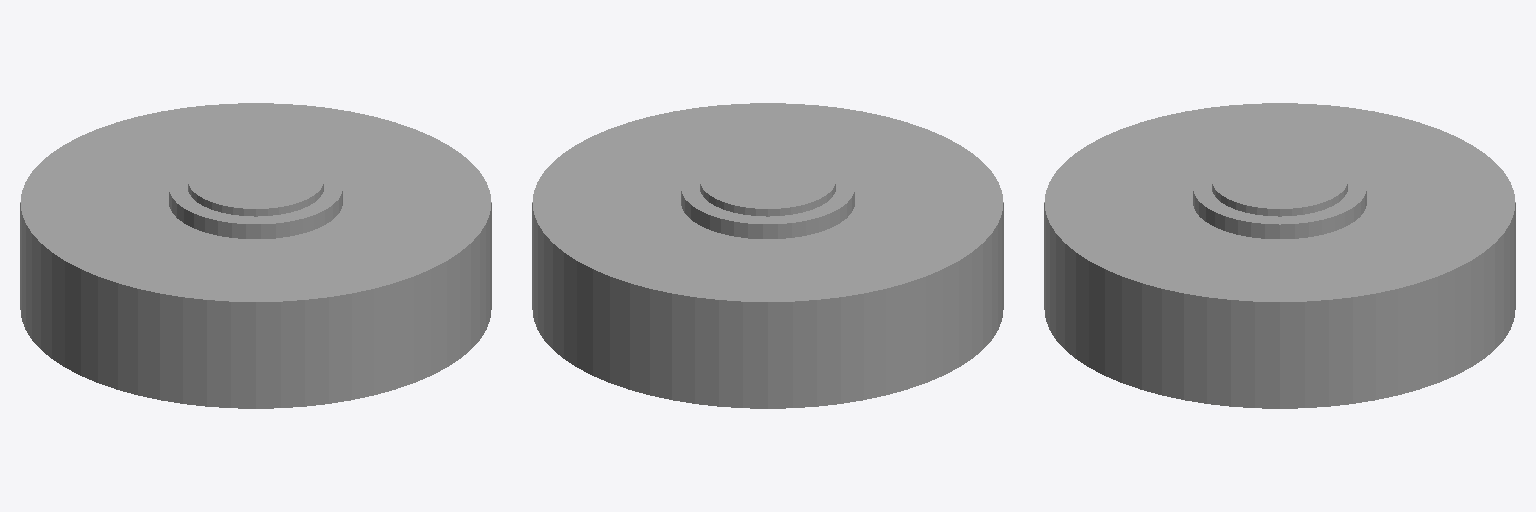
The robot description file, URDF, robot "ur5":
<?xml version="1.0" ?>
<!-- =================================================================================== -->
<!-- |    This document was autogenerated by xacro from ur5_joint_limited_robot.urdf.xacro | -->
<!-- |    EDITING THIS FILE BY HAND IS NOT RECOMMENDED                                 | -->
<!-- =================================================================================== -->
<robot name="ur5" xmlns:xacro="http://www.ros.org/wiki/xacro">
  <gazebo>
    <plugin filename="libgazebo_ros_control.so" name="ros_control">
      <!--robotNamespace>/</robotNamespace-->
      <!--robotSimType>gazebo_ros_control/DefaultRobotHWSim</robotSimType-->
    </plugin>
    <!--
    <plugin name="gazebo_ros_power_monitor_controller" filename="libgazebo_ros_power_monitor.so">
      <alwaysOn>true</alwaysOn>
      <updateRate>1.0</updateRate>
      <timeout>5</timeout>
      <powerStateTopic>power_state</powerStateTopic>
      <powerStateRate>10.0</powerStateRate>
      <fullChargeCapacity>87.78</fullChargeCapacity>     
      <dischargeRate>-474</dischargeRate>
      <chargeRate>525</chargeRate>
      <dischargeVoltage>15.52</dischargeVoltage>
      <chargeVoltage>16.41</chargeVoltage>
    </plugin>
-->
  </gazebo>
  <!-- measured from model -->
  <!--property name="shoulder_height" value="0.089159" /-->
  <!--property name="shoulder_offset" value="0.13585" /-->
  <!-- shoulder_offset - elbow_offset + wrist_1_length = 0.10915 -->
  <!--property name="upper_arm_length" value="0.42500" /-->
  <!--property name="elbow_offset" value="0.1197" /-->
  <!-- CAD measured -->
  <!--property name="forearm_length" value="0.39225" /-->
  <!--property name="wrist_1_length" value="0.093" /-->
  <!-- CAD measured -->
  <!--property name="wrist_2_length" value="0.09465" /-->
  <!-- In CAD this distance is 0.930, but in the spec it is 0.09465 -->
  <!--property name="wrist_3_length" value="0.0823" /-->
  <!-- manually measured -->
  <link name="base_link">
    <visual>
      <geometry>
        <mesh filename="package://robot_description/meshes/ur5/visual/base.dae"/>
      </geometry>
      <material name="LightGrey">
        <color rgba="0.7 0.7 0.7 1.0"/>
      </material>
    </visual>
    <collision>
      <geometry>
        <mesh filename="package://robot_description/meshes/ur5/collision/base.stl"/>
      </geometry>
    </collision>
    <inertial>
      <mass value="4.0"/>
      <origin rpy="0 0 0" xyz="0.0 0.0 0.0"/>
      <inertia ixx="0.00443333156" ixy="0.0" ixz="0.0" iyy="0.00443333156" iyz="0.0" izz="0.0072"/>
    </inertial>
  </link>
  <joint name="shoulder_pan_joint" type="revolute">
    <parent link="base_link"/>
    <child link="shoulder_link"/>
    <origin rpy="0.0 0.0 0.0" xyz="0.0 0.0 0.089159"/>
    <axis xyz="0 0 1"/>
    <limit effort="150.0" lower="-3.14159265359" upper="3.14159265359" velocity="3.15"/>
    <dynamics damping="0.0" friction="0.0"/>
  </joint>
  <link name="shoulder_link">
    <visual>
      <geometry>
        <mesh filename="package://robot_description/meshes/ur5/visual/shoulder.dae"/>
      </geometry>
      <material name="LightGrey">
        <color rgba="0.7 0.7 0.7 1.0"/>
      </material>
    </visual>
    <collision>
      <geometry>
        <mesh filename="package://robot_description/meshes/ur5/collision/shoulder.stl"/>
      </geometry>
    </collision>
    <inertial>
      <mass value="3.7"/>
      <origin rpy="0 0 0" xyz="0.0 0.0 0.0"/>
      <inertia ixx="0.010267495893" ixy="0.0" ixz="0.0" iyy="0.010267495893" iyz="0.0" izz="0.00666"/>
    </inertial>
  </link>
  <joint name="shoulder_lift_joint" type="revolute">
    <parent link="shoulder_link"/>
    <child link="upper_arm_link"/>
    <origin rpy="0.0 1.57079632679 0.0" xyz="0.0 0.13585 0.0"/>
    <axis xyz="0 1 0"/>
    <limit effort="150.0" lower="-3.14159265359" upper="3.14159265359" velocity="3.15"/>
    <dynamics damping="0.0" friction="0.0"/>
  </joint>
  <link name="upper_arm_link">
    <visual>
      <geometry>
        <mesh filename="package://robot_description/meshes/ur5/visual/upperarm.dae"/>
      </geometry>
      <material name="LightGrey">
        <color rgba="0.7 0.7 0.7 1.0"/>
      </material>
    </visual>
    <collision>
      <geometry>
        <mesh filename="package://robot_description/meshes/ur5/collision/upperarm.stl"/>
      </geometry>
    </collision>
    <inertial>
      <mass value="8.393"/>
      <origin rpy="0 0 0" xyz="0.0 0.0 0.28"/>
      <inertia ixx="0.22689067591" ixy="0.0" ixz="0.0" iyy="0.22689067591" iyz="0.0" izz="0.0151074"/>
    </inertial>
  </link>
  <joint name="elbow_joint" type="revolute">
    <parent link="upper_arm_link"/>
    <child link="forearm_link"/>
    <origin rpy="0.0 0.0 0.0" xyz="0.0 -0.1197 0.425"/>
    <axis xyz="0 1 0"/>
    <limit effort="150.0" lower="-3.14159265359" upper="3.14159265359" velocity="3.15"/>
    <dynamics damping="0.0" friction="0.0"/>
  </joint>
  <link name="forearm_link">
    <visual>
      <geometry>
        <mesh filename="package://robot_description/meshes/ur5/visual/forearm.dae"/>
      </geometry>
      <material name="LightGrey">
        <color rgba="0.7 0.7 0.7 1.0"/>
      </material>
    </visual>
    <collision>
      <geometry>
        <mesh filename="package://robot_description/meshes/ur5/collision/forearm.stl"/>
      </geometry>
    </collision>
    <inertial>
      <mass value="2.275"/>
      <origin rpy="0 0 0" xyz="0.0 0.0 0.25"/>
      <inertia ixx="0.049443313556" ixy="0.0" ixz="0.0" iyy="0.049443313556" iyz="0.0" izz="0.004095"/>
    </inertial>
  </link>
  <joint name="wrist_1_joint" type="revolute">
    <parent link="forearm_link"/>
    <child link="wrist_1_link"/>
    <origin rpy="0.0 1.57079632679 0.0" xyz="0.0 0.0 0.39225"/>
    <axis xyz="0 1 0"/>
    <limit effort="28.0" lower="-3.14159265359" upper="3.14159265359" velocity="3.2"/>
    <dynamics damping="0.0" friction="0.0"/>
  </joint>
  <link name="wrist_1_link">
    <visual>
      <geometry>
        <mesh filename="package://robot_description/meshes/ur5/visual/wrist1.dae"/>
      </geometry>
      <material name="LightGrey">
        <color rgba="0.7 0.7 0.7 1.0"/>
      </material>
    </visual>
    <collision>
      <geometry>
        <mesh filename="package://robot_description/meshes/ur5/collision/wrist1.stl"/>
      </geometry>
    </collision>
    <inertial>
      <mass value="1.219"/>
      <origin rpy="0 0 0" xyz="0.0 0.0 0.0"/>
      <inertia ixx="0.111172755531" ixy="0.0" ixz="0.0" iyy="0.111172755531" iyz="0.0" izz="0.21942"/>
    </inertial>
  </link>
  <joint name="wrist_2_joint" type="revolute">
    <parent link="wrist_1_link"/>
    <child link="wrist_2_link"/>
    <origin rpy="0.0 0.0 0.0" xyz="0.0 0.093 0.0"/>
    <axis xyz="0 0 1"/>
    <limit effort="28.0" lower="-3.14159265359" upper="3.14159265359" velocity="3.2"/>
    <dynamics damping="0.0" friction="0.0"/>
  </joint>
  <link name="wrist_2_link">
    <visual>
      <geometry>
        <mesh filename="package://robot_description/meshes/ur5/visual/wrist2.dae"/>
      </geometry>
      <material name="LightGrey">
        <color rgba="0.7 0.7 0.7 1.0"/>
      </material>
    </visual>
    <collision>
      <geometry>
        <mesh filename="package://robot_description/meshes/ur5/collision/wrist2.stl"/>
      </geometry>
    </collision>
    <inertial>
      <mass value="1.219"/>
      <origin rpy="0 0 0" xyz="0.0 0.0 0.0"/>
      <inertia ixx="0.111172755531" ixy="0.0" ixz="0.0" iyy="0.111172755531" iyz="0.0" izz="0.21942"/>
    </inertial>
  </link>
  <joint name="wrist_3_joint" type="revolute">
    <parent link="wrist_2_link"/>
    <child link="wrist_3_link"/>
    <origin rpy="0.0 0.0 0.0" xyz="0.0 0.0 0.09465"/>
    <axis xyz="0 1 0"/>
    <limit effort="28.0" lower="-3.14159265359" upper="3.14159265359" velocity="3.2"/>
    <dynamics damping="0.0" friction="0.0"/>
  </joint>
  <link name="wrist_3_link">
    <visual>
      <geometry>
        <mesh filename="package://robot_description/meshes/ur5/visual/wrist3.dae"/>
      </geometry>
      <material name="LightGrey">
        <color rgba="0.7 0.7 0.7 1.0"/>
      </material>
    </visual>
    <collision>
      <geometry>
        <mesh filename="package://robot_description/meshes/ur5/collision/wrist3.stl"/>
      </geometry>
    </collision>
    <inertial>
      <mass value="0.1879"/>
      <origin rpy="0 0 0" xyz="0.0 0.0 0.0"/>
      <inertia ixx="0.0171364731454" ixy="0.0" ixz="0.0" iyy="0.0171364731454" iyz="0.0" izz="0.033822"/>
    </inertial>
  </link>
  <joint name="ee_fixed_joint" type="fixed">
    <parent link="wrist_3_link"/>
    <child link="ee_link"/>
    <origin rpy="0.0 0.0 1.57079632679" xyz="0.0 0.0823 0.0"/>
  </joint>
  <link name="ee_link">
    <collision>
      <geometry>
        <box size="0.01 0.01 0.01"/>
      </geometry>
      <origin rpy="0 0 0" xyz="-0.01 0 0"/>
    </collision>
  </link>
  <transmission name="shoulder_pan_trans">
    <type>transmission_interface/SimpleTransmission</type>
    <joint name="shoulder_pan_joint">
      <hardwareInterface>PositionJointInterface</hardwareInterface>
    </joint>
    <actuator name="shoulder_pan_motor">
      <mechanicalReduction>1</mechanicalReduction>
    </actuator>
  </transmission>
  <transmission name="shoulder_lift_trans">
    <type>transmission_interface/SimpleTransmission</type>
    <joint name="shoulder_lift_joint">
      <hardwareInterface>PositionJointInterface</hardwareInterface>
    </joint>
    <actuator name="shoulder_lift_motor">
      <mechanicalReduction>1</mechanicalReduction>
    </actuator>
  </transmission>
  <transmission name="elbow_trans">
    <type>transmission_interface/SimpleTransmission</type>
    <joint name="elbow_joint">
      <hardwareInterface>PositionJointInterface</hardwareInterface>
    </joint>
    <actuator name="elbow_motor">
      <mechanicalReduction>1</mechanicalReduction>
    </actuator>
  </transmission>
  <transmission name="wrist_1_trans">
    <type>transmission_interface/SimpleTransmission</type>
    <joint name="wrist_1_joint">
      <hardwareInterface>PositionJointInterface</hardwareInterface>
    </joint>
    <actuator name="wrist_1_motor">
      <mechanicalReduction>1</mechanicalReduction>
    </actuator>
  </transmission>
  <transmission name="wrist_2_trans">
    <type>transmission_interface/SimpleTransmission</type>
    <joint name="wrist_2_joint">
      <hardwareInterface>PositionJointInterface</hardwareInterface>
    </joint>
    <actuator name="wrist_2_motor">
      <mechanicalReduction>1</mechanicalReduction>
    </actuator>
  </transmission>
  <transmission name="wrist_3_trans">
    <type>transmission_interface/SimpleTransmission</type>
    <joint name="wrist_3_joint">
      <hardwareInterface>PositionJointInterface</hardwareInterface>
    </joint>
    <actuator name="wrist_3_motor">
      <mechanicalReduction>1</mechanicalReduction>
    </actuator>
  </transmission>
  <!-- nothing to do here at the moment -->
  <!-- ROS base_link to UR 'Base' Coordinates transform -->
  <link name="base"/>
  <joint name="base_link-base_fixed_joint" type="fixed">
    <!-- NOTE: this rotation is only needed as long as base_link itself is
                 not corrected wrt the real robot (ie: rotated over 180
                 degrees)
      -->
    <origin rpy="0 0 -3.14159265359" xyz="0 0 0"/>
    <parent link="base_link"/>
    <child link="base"/>
  </joint>
  <!-- Frame coincident with all-zeros TCP on UR controller -->
  <link name="tool0"/>
  <joint name="wrist_3_link-tool0_fixed_joint" type="fixed">
    <origin rpy="-1.57079632679 0 0" xyz="0 0.0823 0"/>
    <parent link="wrist_3_link"/>
    <child link="tool0"/>
  </joint>
  <link name="world"/>
  <joint name="world_joint" type="fixed">
    <parent link="world"/>
    <child link="base_link"/>
    <origin rpy="0.0 0.0 0.0" xyz="0.0 0.0 0.0"/>
  </joint>
</robot>

--- What the picture shows (computed from the rendered views, not written in the file) ---
The picture shows the robot from 3 angles, left to right: view 1: azimuth 30°, elevation 25°; view 2: azimuth 150°, elevation 25°; view 3: azimuth 270°, elevation 25°; orthographic projection.
Model ur5 with 11 links and 10 joints (6 revolute, 4 fixed), rooted at world, posed every joint at zero.
Links seen in each view (by area): view 1: base_link; view 2: base_link; view 3: base_link.
Link boxes in pixels (bbox=[...]): base_link: bbox=[20, 103, 491, 408]; base_link: bbox=[532, 103, 1003, 408]; base_link: bbox=[1044, 103, 1515, 408].
Size in the robot's own frame: 0.4 by 0.4 by 0.121 metres.
1 mesh visuals loaded from 7 distinct referenced files (1 Collada DAE); not drawn: 6 (reference not matched to a file when rendering).